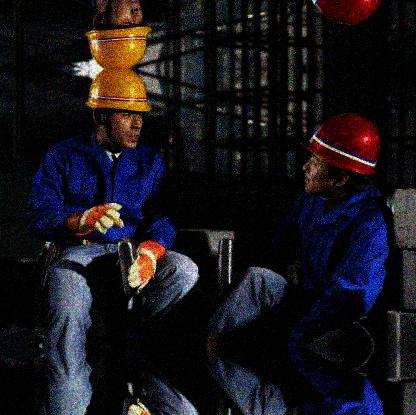helmet: (301, 112, 382, 195), (83, 70, 153, 150), (85, 1, 154, 71)
